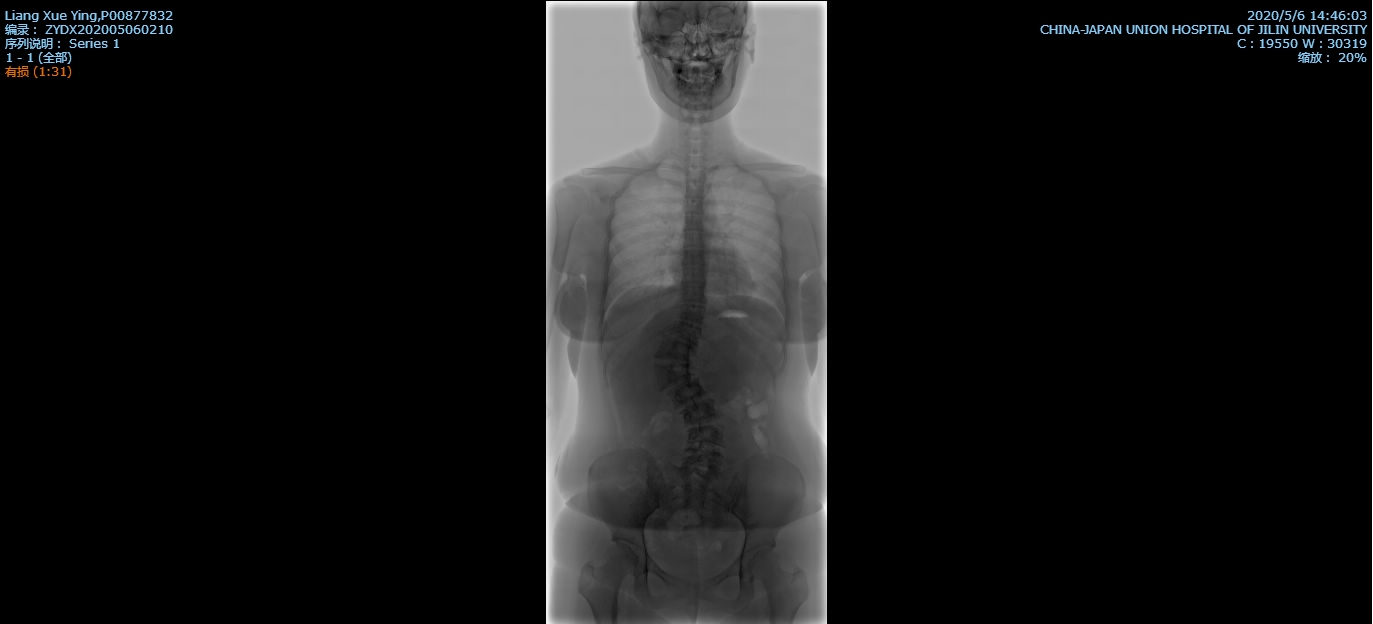Bone: (685, 450, 721, 469), (689, 425, 723, 442), (662, 340, 690, 360), (668, 385, 703, 400), (681, 406, 715, 421), (653, 366, 688, 380), (675, 324, 702, 337), (681, 307, 704, 321), (685, 234, 705, 250), (681, 289, 702, 303), (682, 269, 704, 282), (683, 215, 703, 227), (685, 253, 703, 266), (687, 202, 703, 212)
